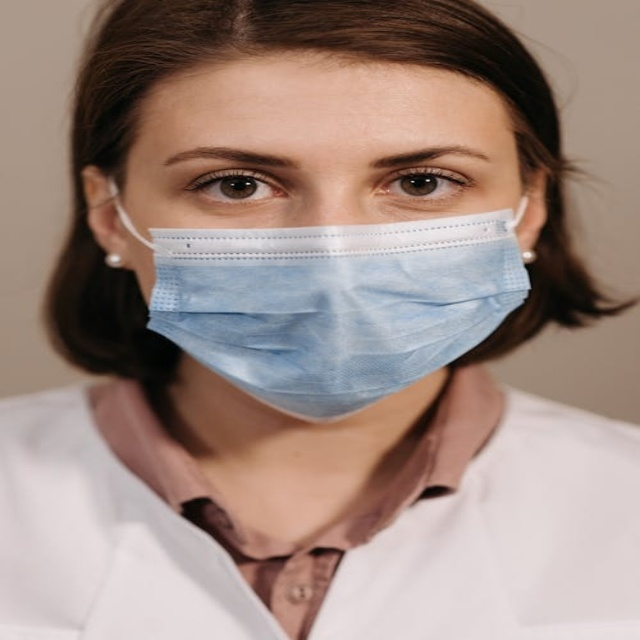Mascara: (116, 182, 535, 420)
Sin_gafas: (146, 132, 499, 210)
